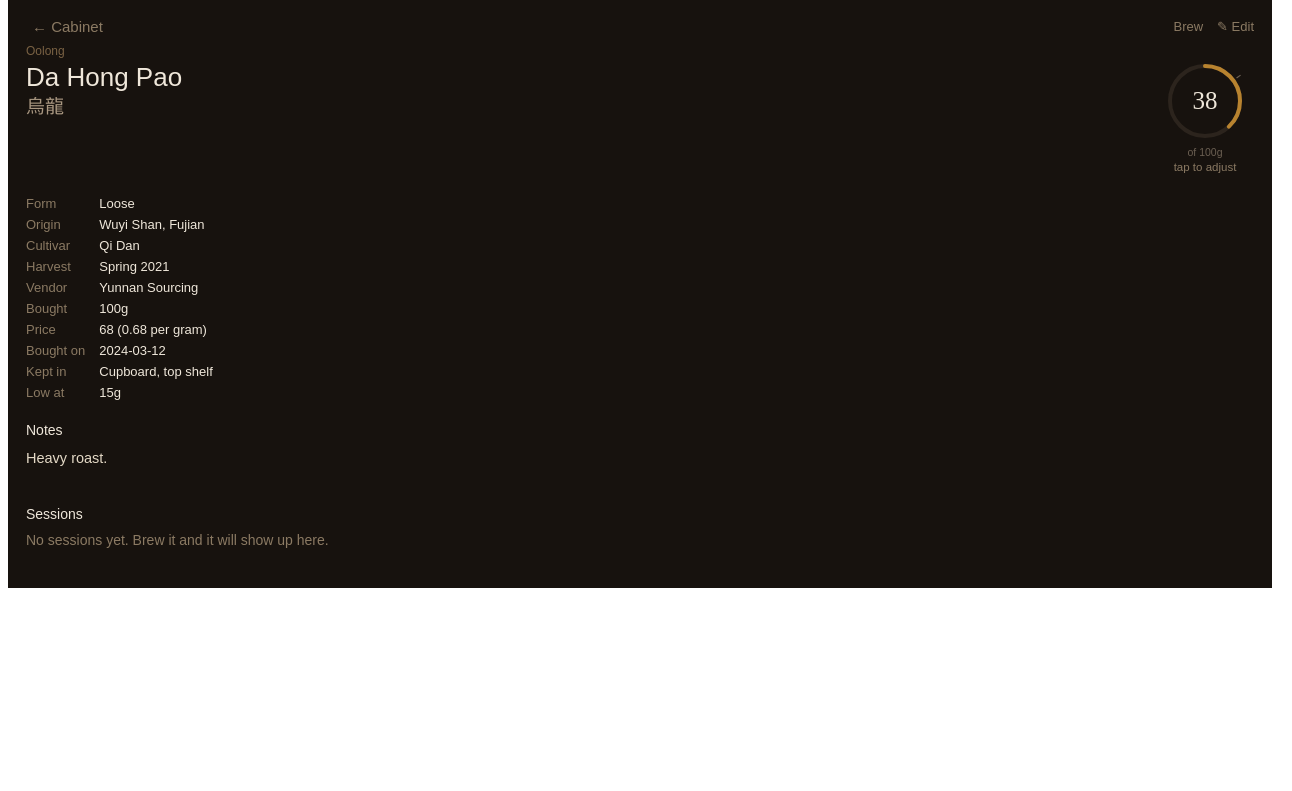
Test: TeaDetailPage › view mode › returns to view mode after a successful save
Click the button with test id "tea-edit": (1236, 26) x1=1217 y1=15 x2=1254 y2=38
(page scrolled)
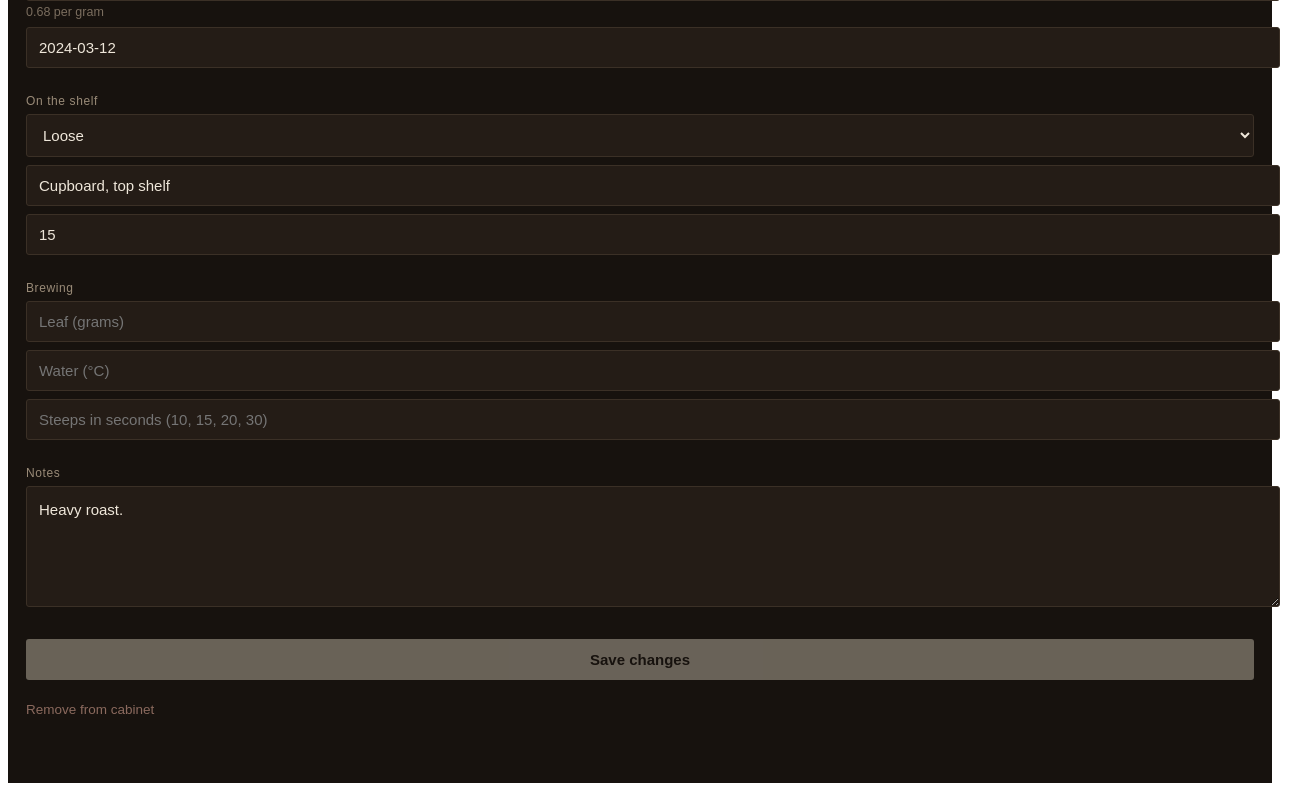
Replace the text in the text box with test id "field-notes" with "Lighter than expected.": (653, 547) x1=26 y1=486 x2=1280 y2=607
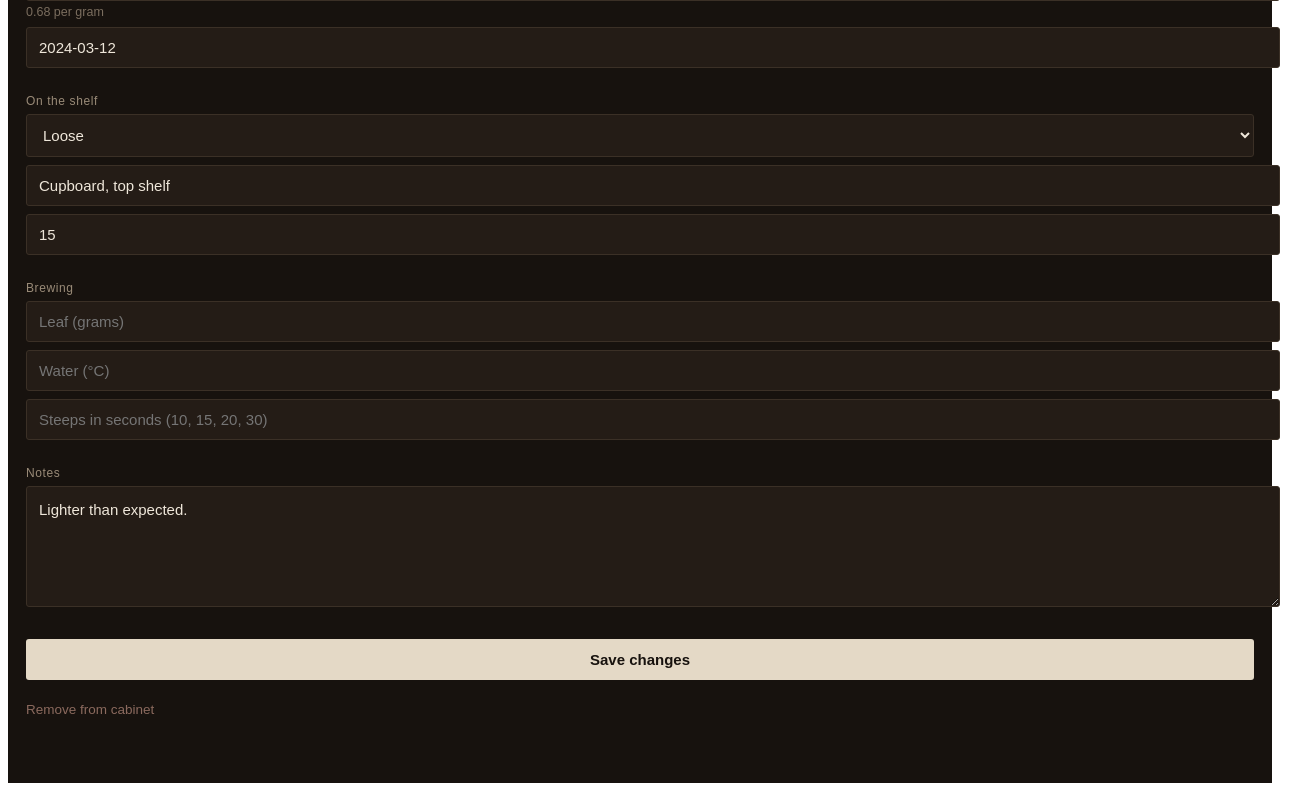
Click the button with test id "tea-save": (640, 660) x1=26 y1=639 x2=1254 y2=680
(page scrolled)
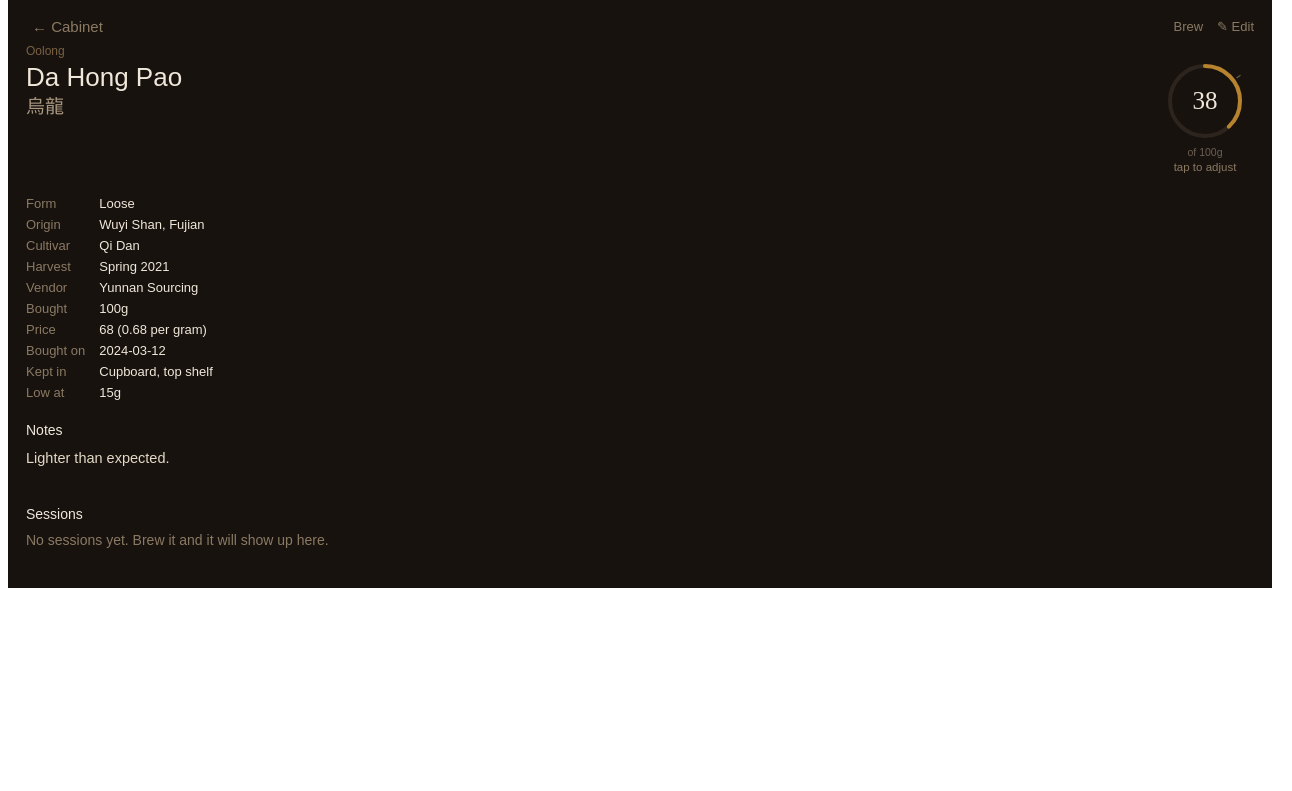
Check: the text with test id "tea-notes" reads "Lighter than expected.", box x1=26 y1=450 x2=170 y2=466
